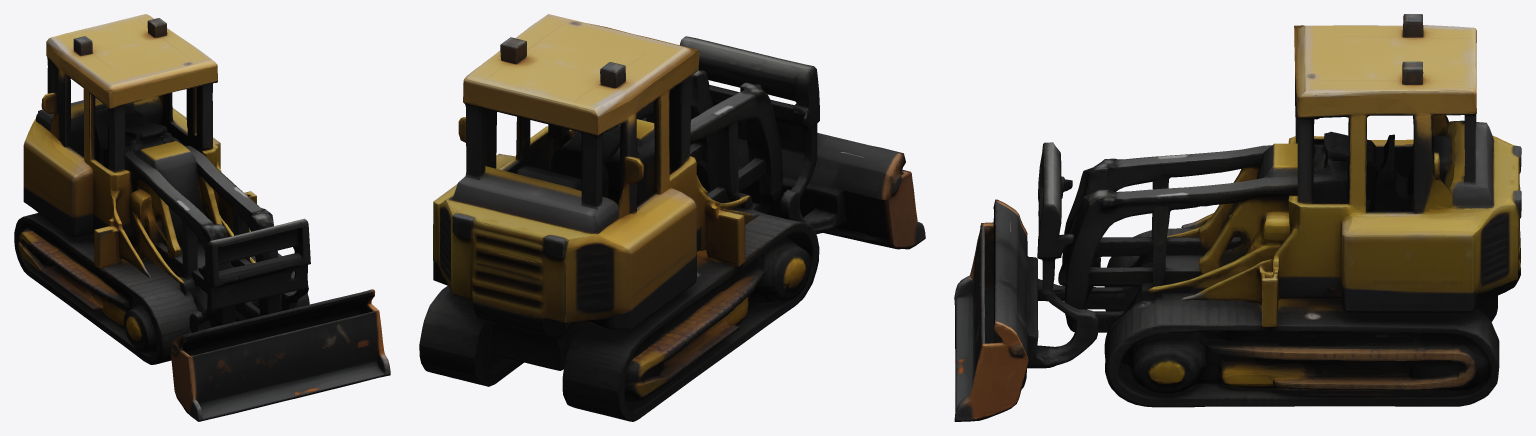
Rendered from dozer.glb.
The picture shows the model from 3 angles, left to right: view 1: azimuth 30°, elevation 25°; view 2: azimuth 150°, elevation 25°; view 3: azimuth 270°, elevation 25°; orthographic projection. The views are drawn at different scales.
Parts seen in each view (by area): view 1: world; view 2: world; view 3: world.
Part boxes in pixels (x1,y1,x2,y2): world: (14,14,390,421); world: (419,14,925,421); world: (954,14,1521,421).
Bounding box in the file's own units: 0.5195 × 0.6158 × 0.9924.
1 material, 1 textured.
